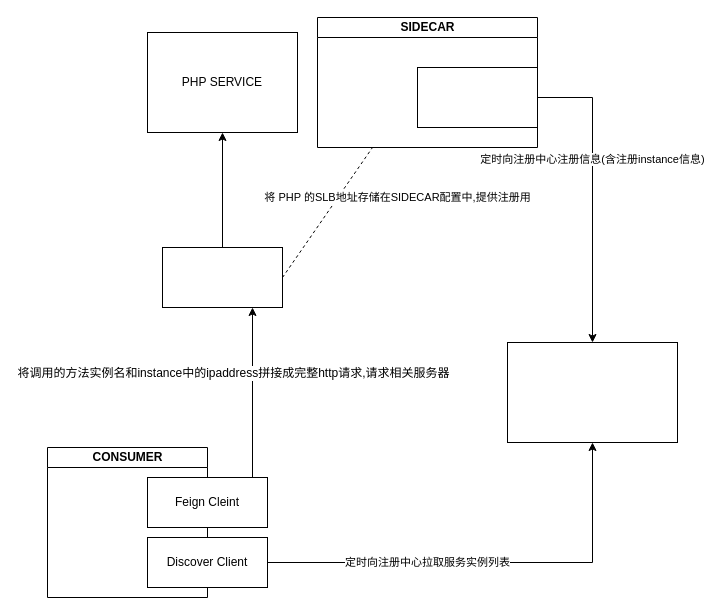
Some shapes in this 722 by 615 pixel diagram are drawn without their labels. Here are the shapes that lost their labels. From the top down, the centre of each, then its label:
At point (477, 97): "Eureka Client".
At point (222, 277): "ALI-SLB".
At point (592, 392): "Eureka-Server".
